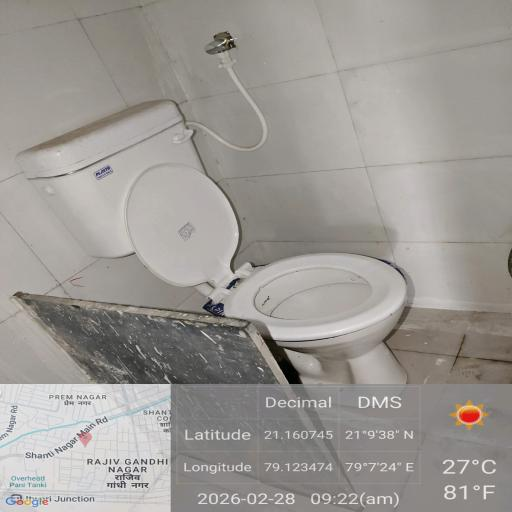clean_floor: (51, 30, 438, 133)
clean_western: (124, 200, 456, 422)
